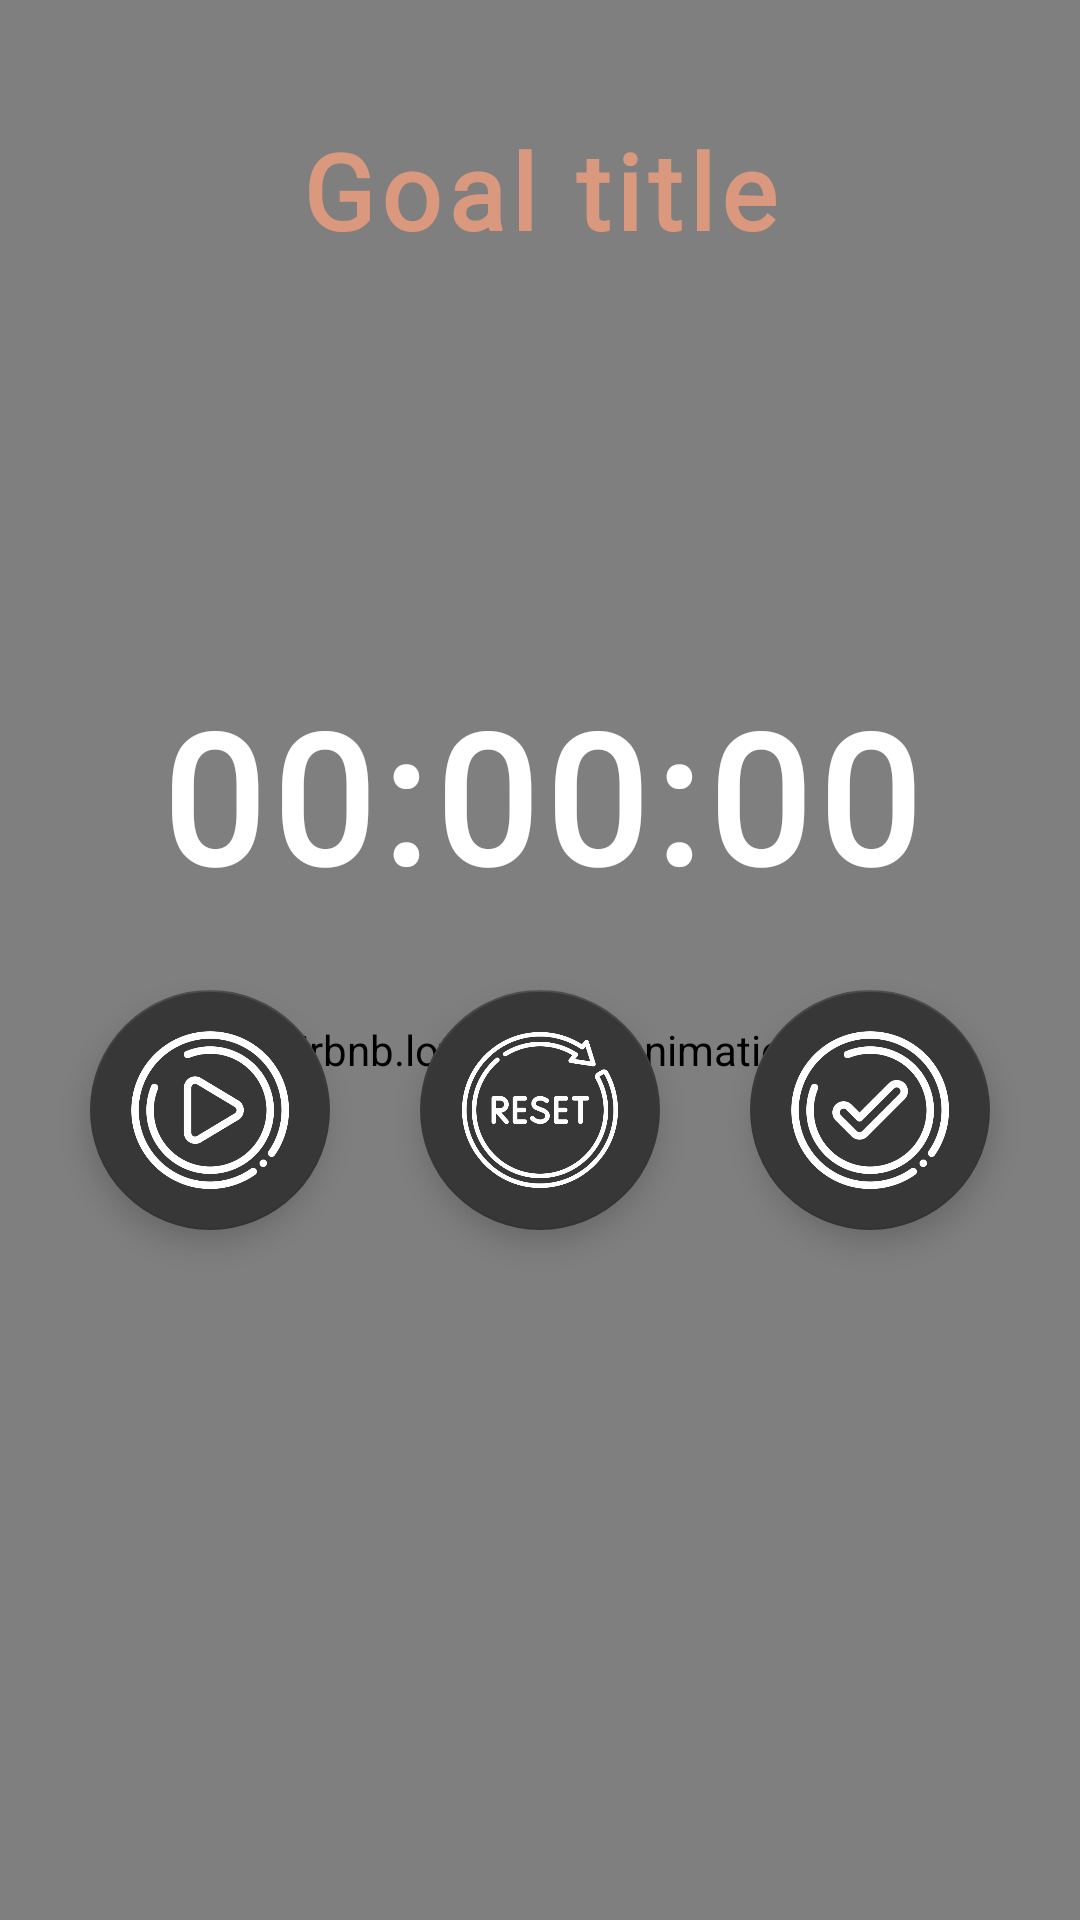

Named icons in this screenshot (1080 × 1920) and their centers, point (x, y):
check: point (870, 1110)
play: point (210, 1110)
